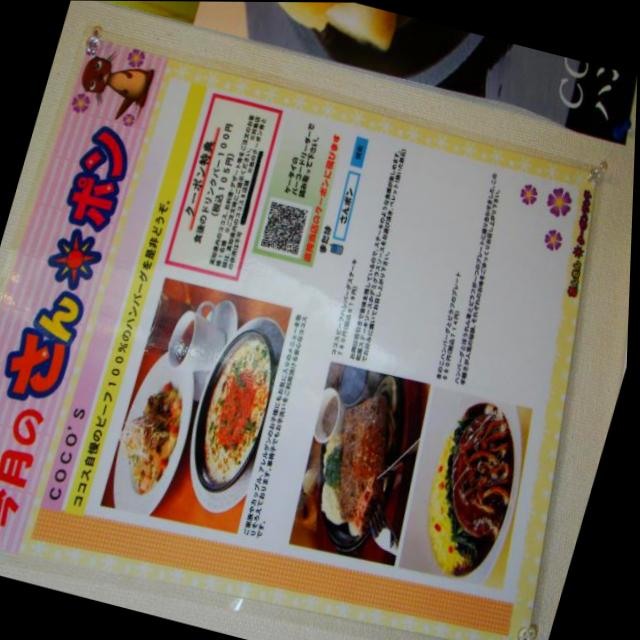qrcode: (262, 201, 312, 254)
